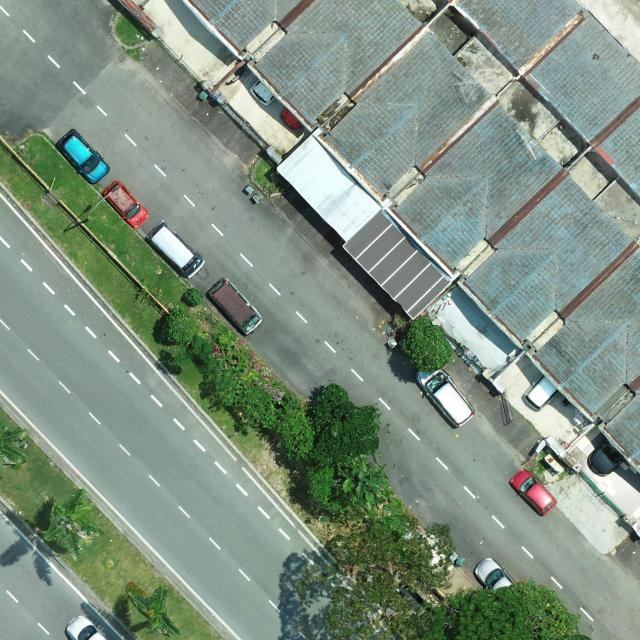Tree: (294, 513, 458, 640), (421, 579, 593, 640), (310, 382, 380, 466), (43, 487, 102, 563), (125, 580, 184, 638), (336, 454, 390, 511), (275, 392, 316, 461), (402, 316, 452, 372), (235, 384, 278, 429), (206, 353, 241, 407), (160, 306, 198, 342), (0, 422, 28, 470), (192, 334, 214, 364)
